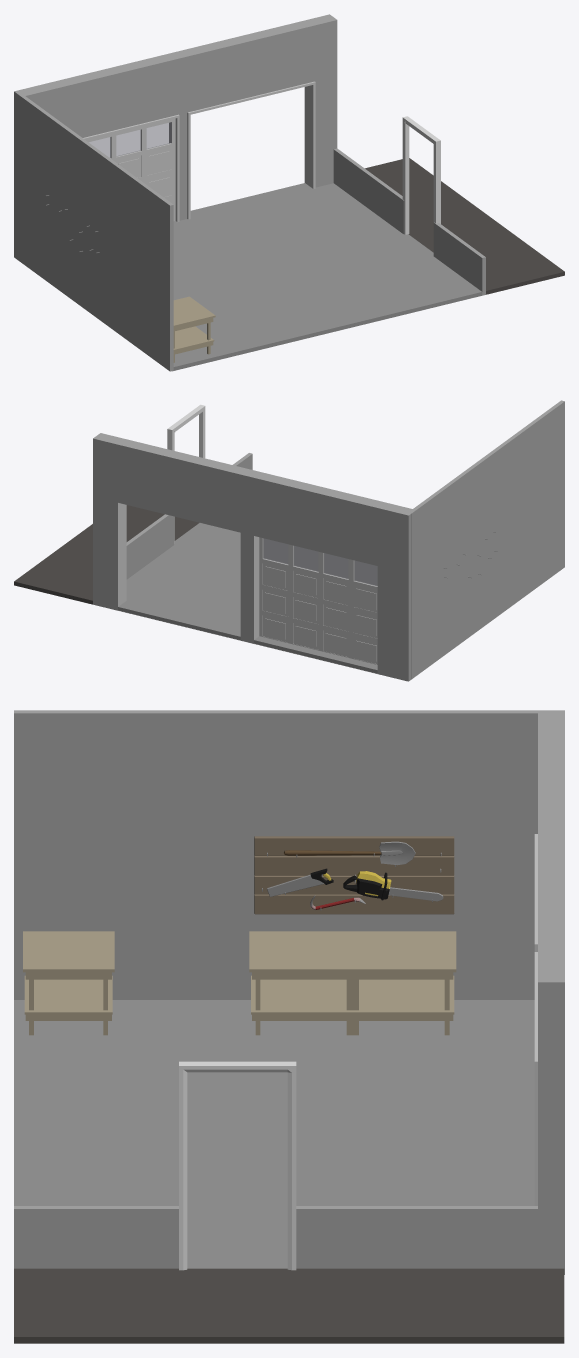
File: Uninteractables.fbx
The picture shows the model from 3 angles, top to bottom: view 1: azimuth 30°, elevation 25°; view 2: azimuth 150°, elevation 25°; view 3: azimuth 270°, elevation 25°; orthographic projection. The views are drawn at different scales.
Visible parts, largest first — view 1: ground1, wall3, wall4, wall2, pasted__pPlane2, pasted__pCube14, pasted__pCube13; view 2: wall4, wall3, ground1, pasted__pPlane2, wall2, pasted__pCube13; view 3: ground1, wall3, wall2, pasted__pCube3, pasted__group4_pasted__group3_pasted__pasted__pCube12, wall4, pasted__pCube14, pasted__pCube13.
Boxes of the visible parts, x1,y1,x2,y2 form: ground1: (172, 158, 564, 371); wall3: (17, 92, 173, 371); wall4: (14, 14, 337, 259); wall2: (333, 148, 485, 295); pasted__pPlane2: (86, 118, 175, 220); pasted__pCube14: (173, 296, 215, 362); pasted__pCube13: (402, 116, 440, 234); wall4: (93, 433, 412, 681); wall3: (408, 400, 564, 678); ground1: (14, 505, 406, 681); pasted__pPlane2: (259, 537, 377, 664); wall2: (126, 453, 252, 579); pasted__pCube13: (167, 404, 205, 543); ground1: (14, 1000, 564, 1343); wall3: (14, 710, 554, 999); wall2: (14, 1206, 554, 1268); pasted__pCube3: (249, 931, 456, 1035); pasted__group4_pasted__group3_pasted__pasted__pCube12: (254, 836, 454, 914); wall4: (534, 710, 564, 1274); pasted__pCube14: (23, 931, 114, 1035); pasted__pCube13: (179, 1061, 296, 1270).
Size of the model in its own units: 23.72 by 9.46 by 16.09.
